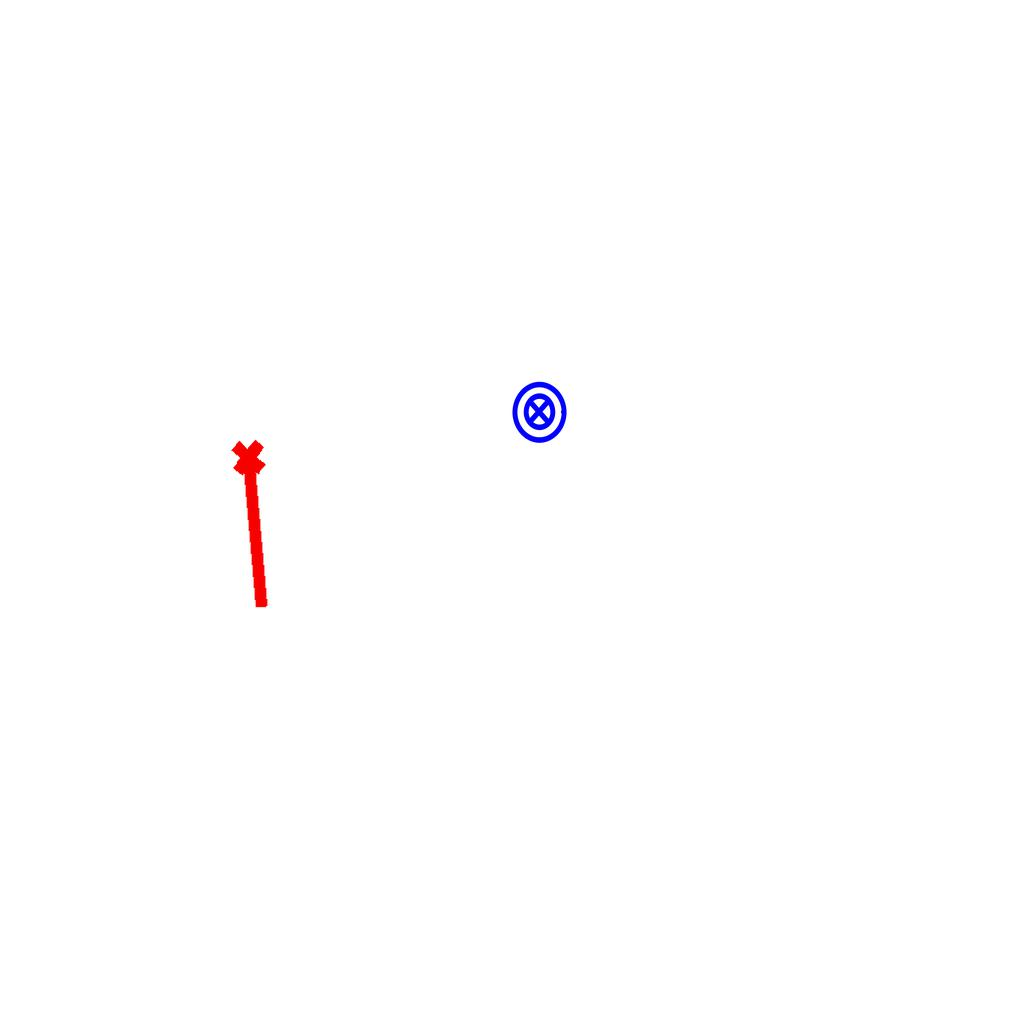ASR_Ansaugoeffnung: (226, 435, 288, 615)
Taster_beleuchtet: (506, 379, 572, 445)
